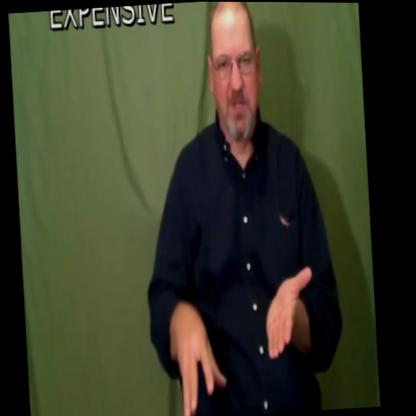Expensive: (125, 1, 354, 416)
